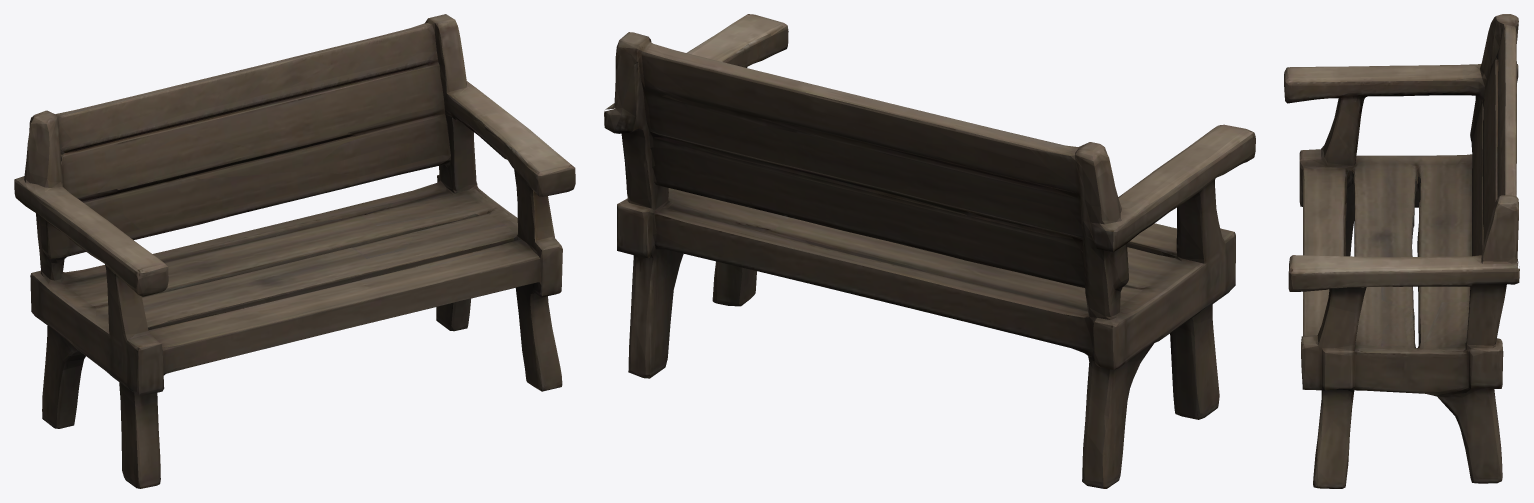
File: bench.glb
3 renders of one model, left to right at view 1: azimuth 30°, elevation 25°; view 2: azimuth 150°, elevation 25°; view 3: azimuth 270°, elevation 25°, orthographic. The views are drawn at different scales.
Visible parts, largest first — view 1: geometry_0.116; view 2: geometry_0.116; view 3: geometry_0.116.
Part boxes in pixels (x1,y1,x2,y2): geometry_0.116: (14,14,575,488); geometry_0.116: (604,14,1255,488); geometry_0.116: (1284,14,1519,488).
Bounding box in the file's own units: 0.4759 × 0.3062 × 0.2321.
1 material, 1 textured.
